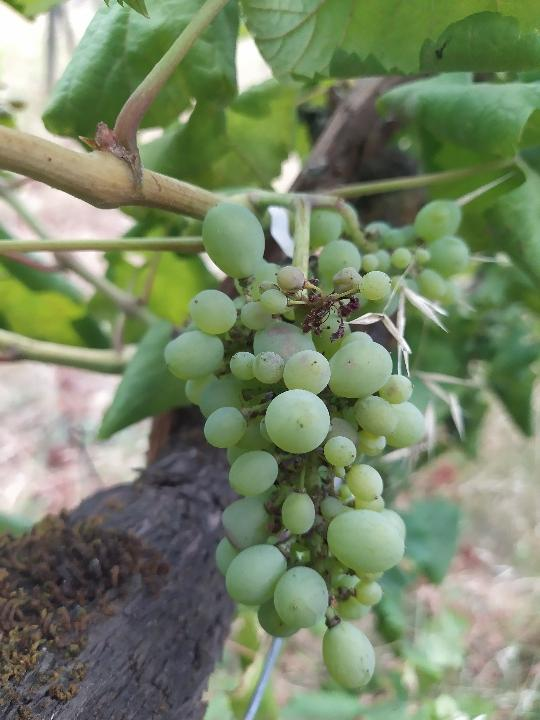grape: (160, 200, 430, 691)
